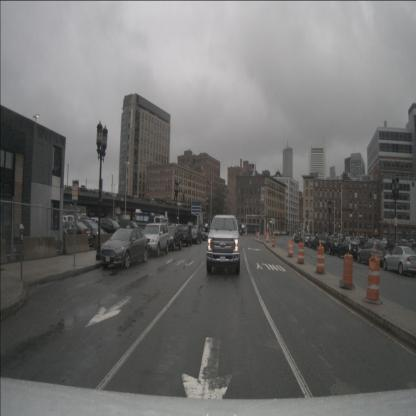cone: (362, 254, 382, 304), (339, 252, 356, 290), (314, 240, 327, 274), (296, 241, 305, 263), (287, 240, 295, 258), (271, 233, 276, 247), (266, 234, 269, 243), (255, 232, 258, 238), (257, 232, 260, 237)
